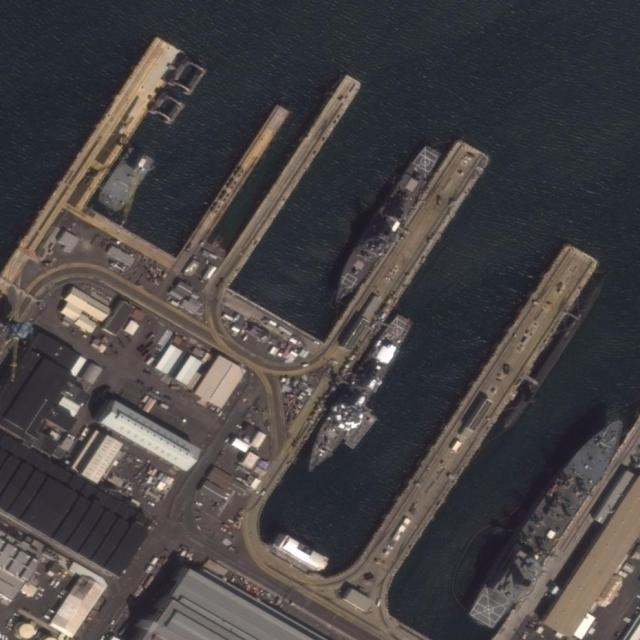Commander: (462, 405, 636, 639)
Destroyer: (301, 311, 416, 478), (326, 145, 444, 306)
Dock: (354, 239, 599, 589), (326, 139, 495, 355), (213, 74, 363, 279), (49, 34, 184, 211), (173, 105, 292, 262)
Submarine: (500, 275, 610, 431)
